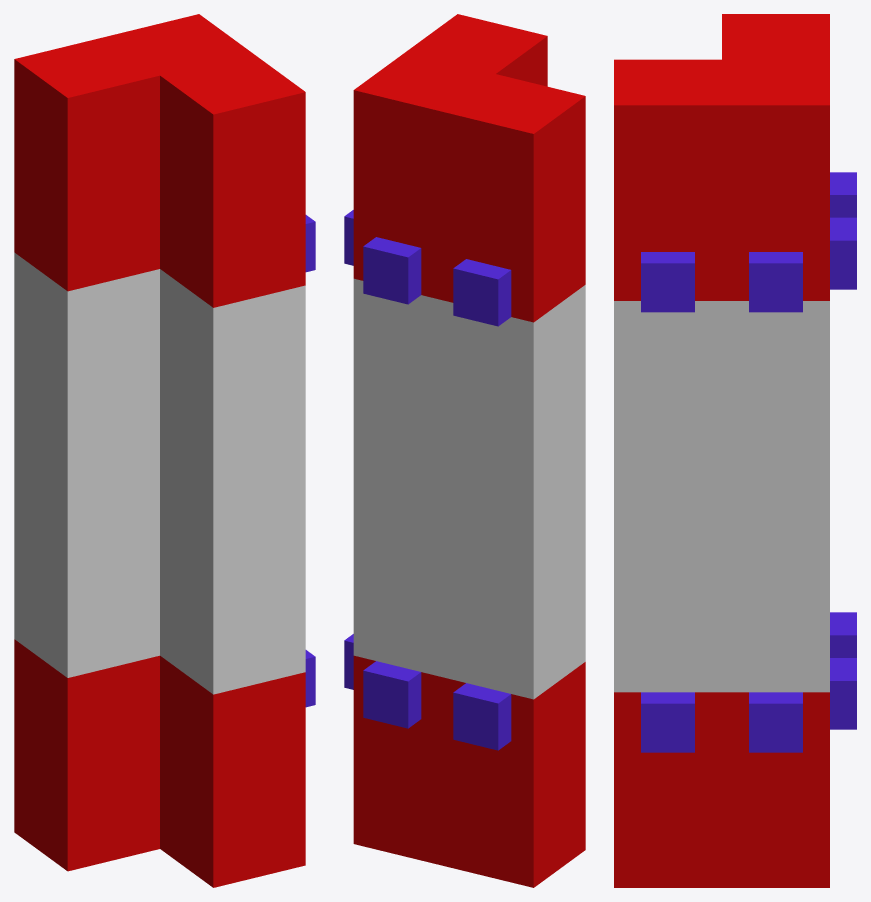
Rendered from SM_WallCornerStripe4m_a.fbx.
3 views of the same model, side by side, from view 1: azimuth 30°, elevation 25°; view 2: azimuth 150°, elevation 25°; view 3: azimuth 270°, elevation 25° (orthographic). The views are drawn at different scales.
Visible parts, largest first — view 1: WallCornerStripe4m_a; view 2: WallCornerStripe4m_a; view 3: WallCornerStripe4m_a.
Boxes of the visible parts, box(x1,y1,x2,y2) form: WallCornerStripe4m_a: box(14, 14, 315, 887); WallCornerStripe4m_a: box(344, 14, 585, 887); WallCornerStripe4m_a: box(614, 14, 856, 887).
Bounding box in the file's own units: 112 × 400 × 113.
